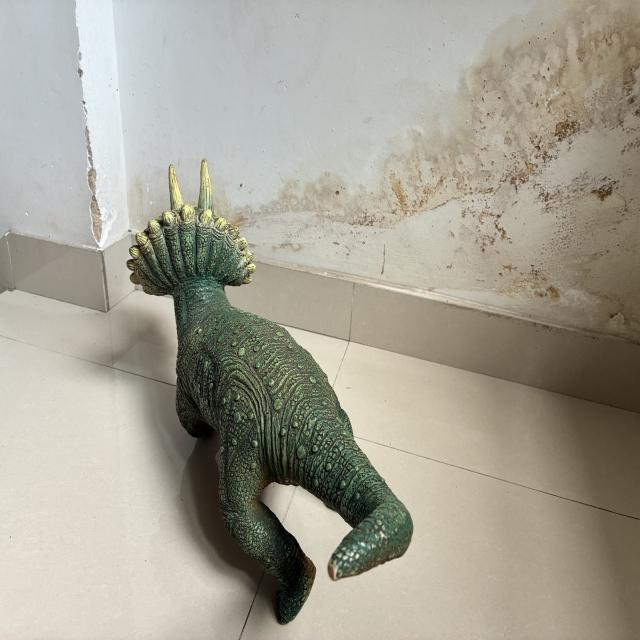dinosaur: (127, 160, 413, 624)
